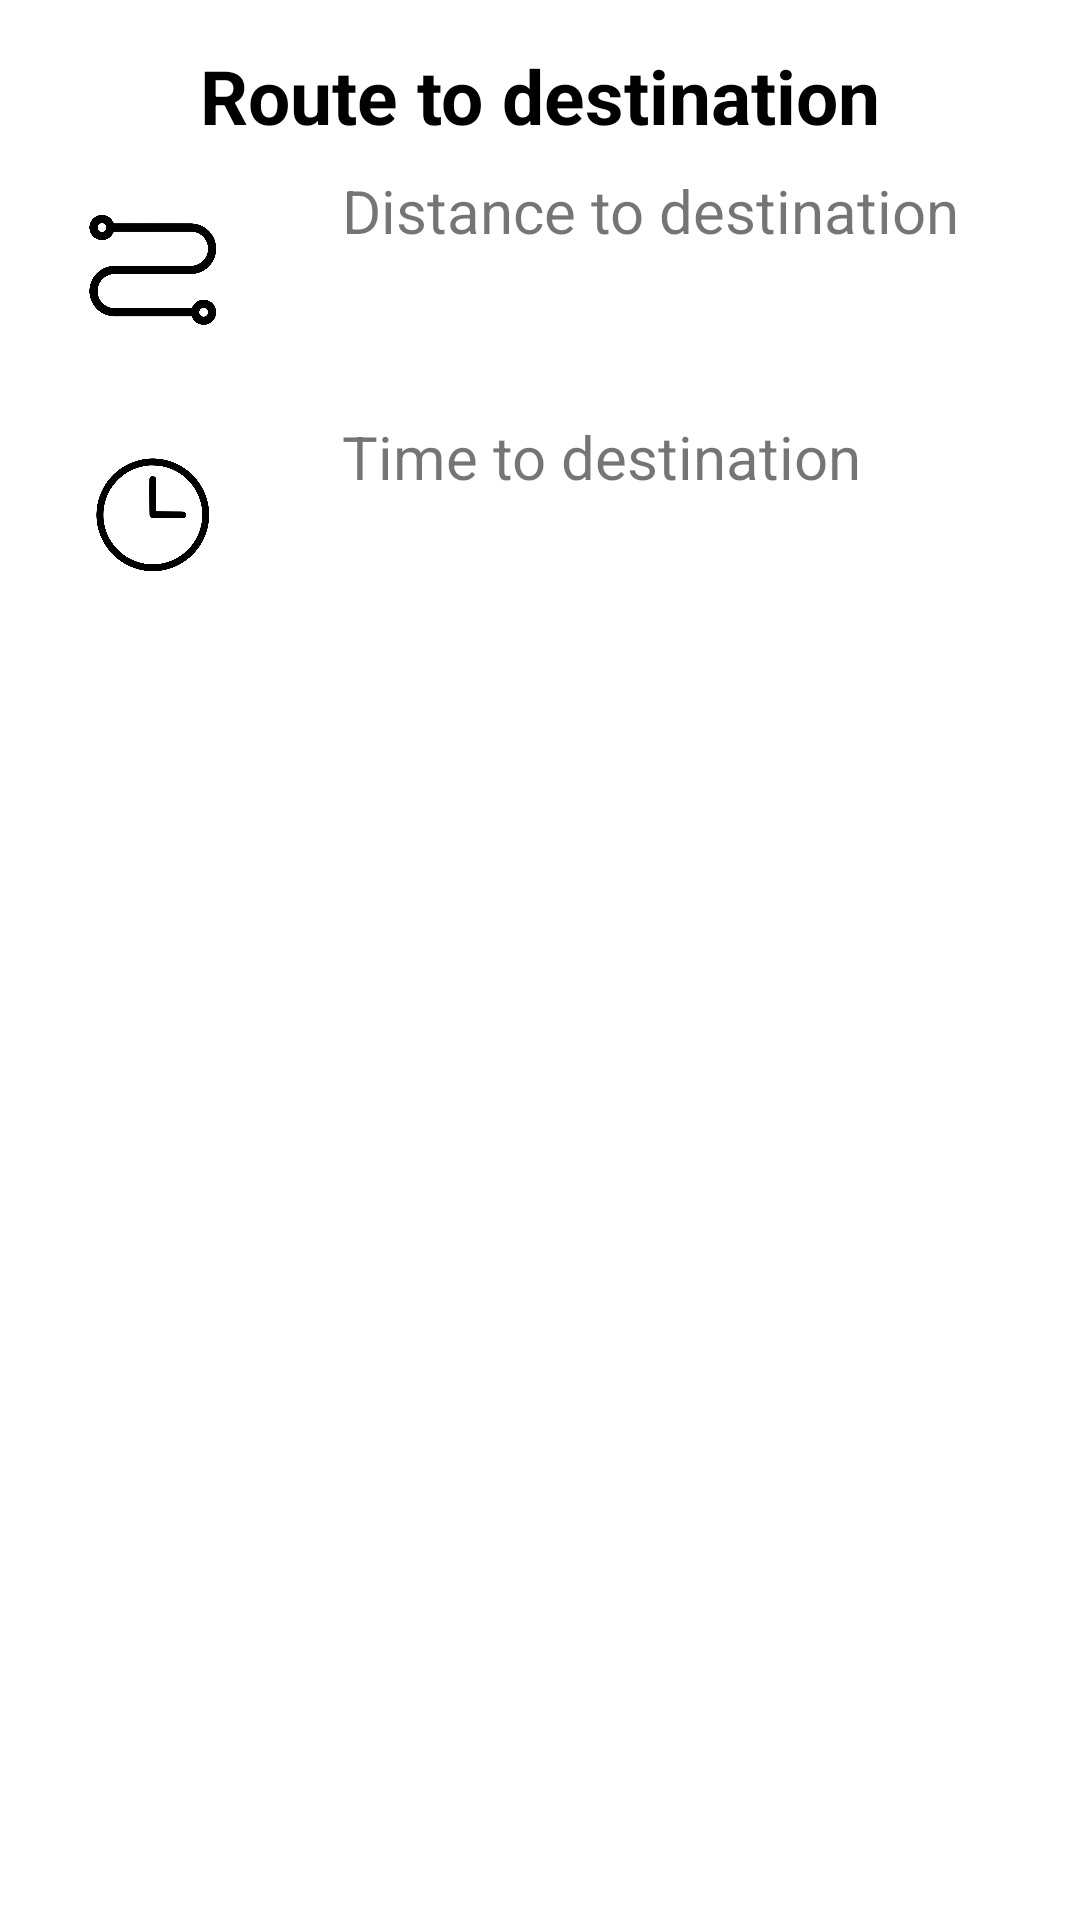

Point at icon controls on the screen. Image size 1080 x 1920, points as [x,y].
emptytime: [152,514]
routesmall: [152,270]
